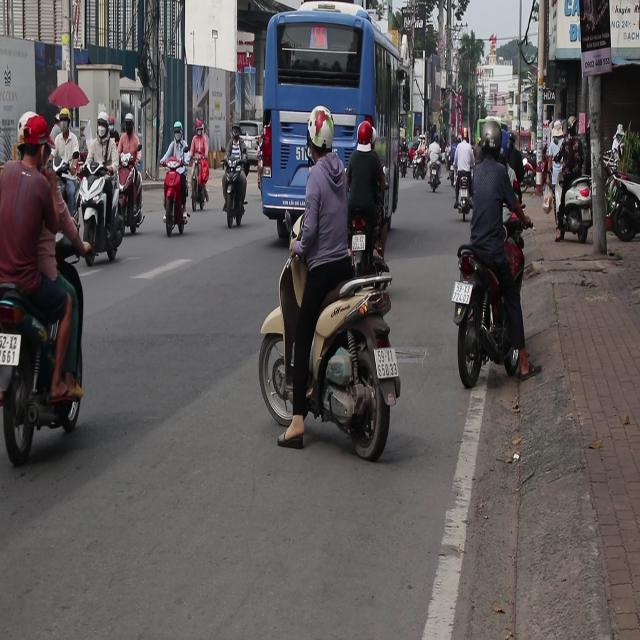bus: (255, 3, 414, 232)
car: (229, 121, 264, 170)
motorbike: (264, 228, 404, 462), (446, 245, 586, 408), (5, 262, 90, 451), (556, 160, 640, 248), (76, 152, 129, 264), (115, 154, 148, 232), (160, 163, 187, 242), (222, 177, 250, 240), (55, 157, 81, 216), (192, 158, 210, 209), (451, 172, 470, 216), (426, 154, 442, 192)
